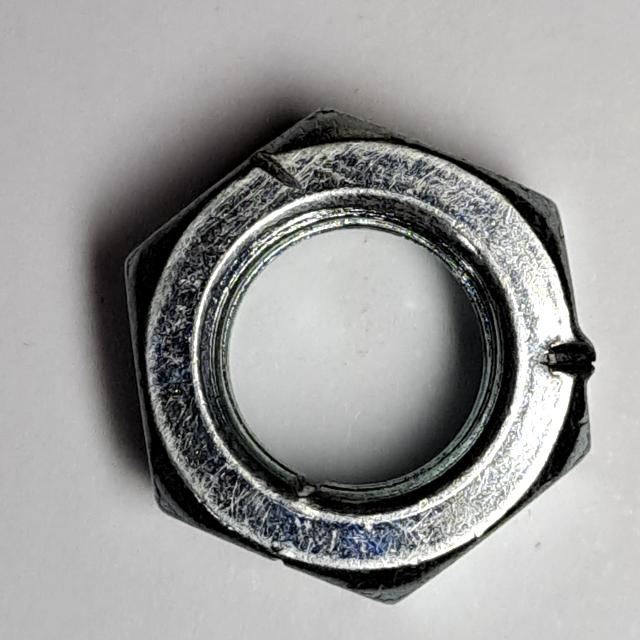Scratches: (94, 85, 611, 617)
